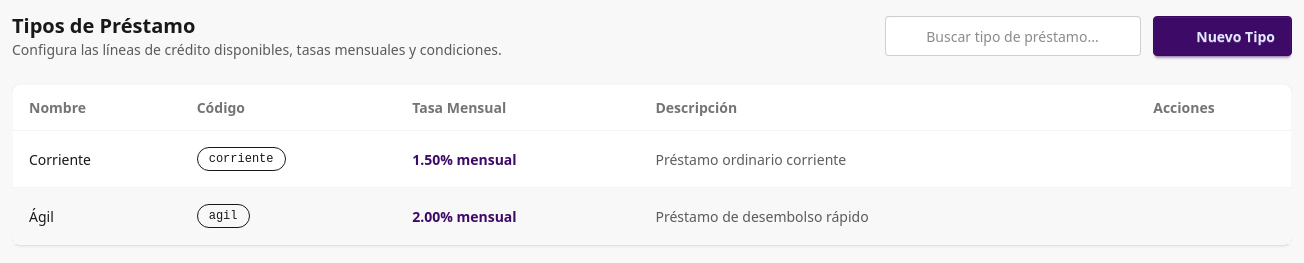
it: LoanTypeManagement.vue › filters loan types via search input
The width and height of the screenshot is (1304, 263).
Step 1. Type "Ágil" into the field named "Buscar tipos de préstamo" → (1013, 36), box [885,16,1141,56]
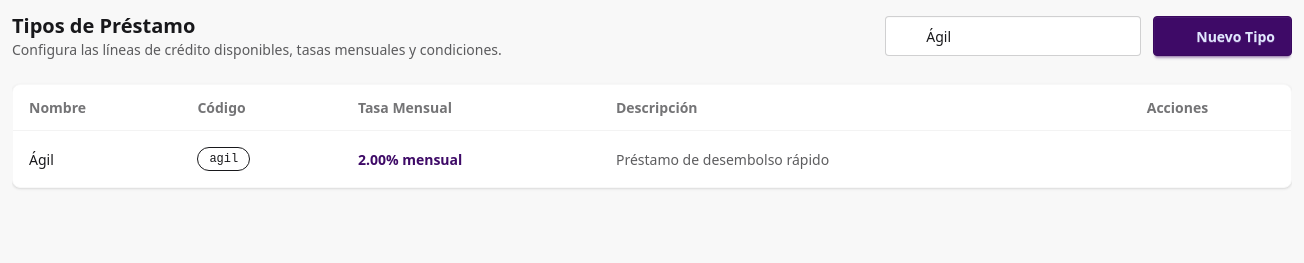
Expected: the text "Ágil" is shown, [13,131,181,187]
Now the text "Corriente" is gone
